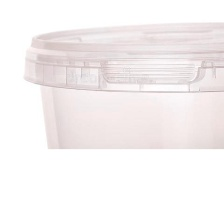plastic_box: (16, 15, 224, 149)
